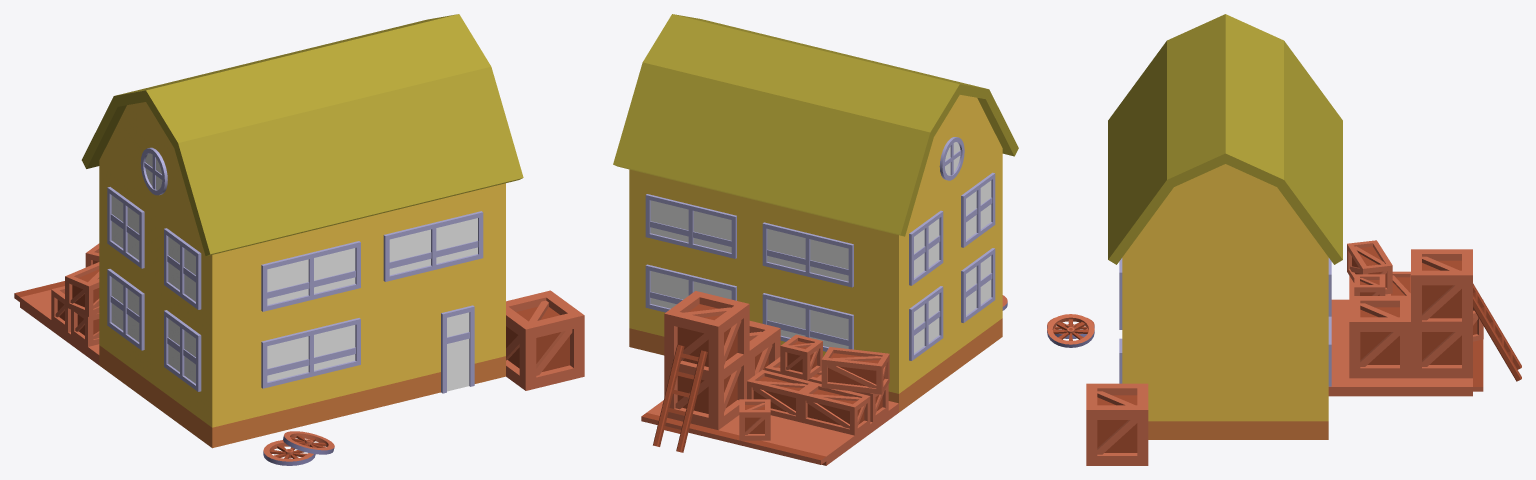
The model's file is house_yellow.glb.
3 views of the same model, side by side, from view 1: azimuth 30°, elevation 25°; view 2: azimuth 150°, elevation 25°; view 3: azimuth 270°, elevation 25° (orthographic). The views are drawn at different scales.
Visible parts, largest first — view 1: mergedBlocks(Clone); view 2: mergedBlocks(Clone); view 3: mergedBlocks(Clone).
Boxes of the visible parts, <box> form: mergedBlocks(Clone): <box>14,14,584,465</box>; mergedBlocks(Clone): <box>613,14,1018,465</box>; mergedBlocks(Clone): <box>1047,14,1521,465</box>.
Size of the model in its own units: 3.7 by 3.12 by 4.61.
Materials: 1 (1 with a texture image).
